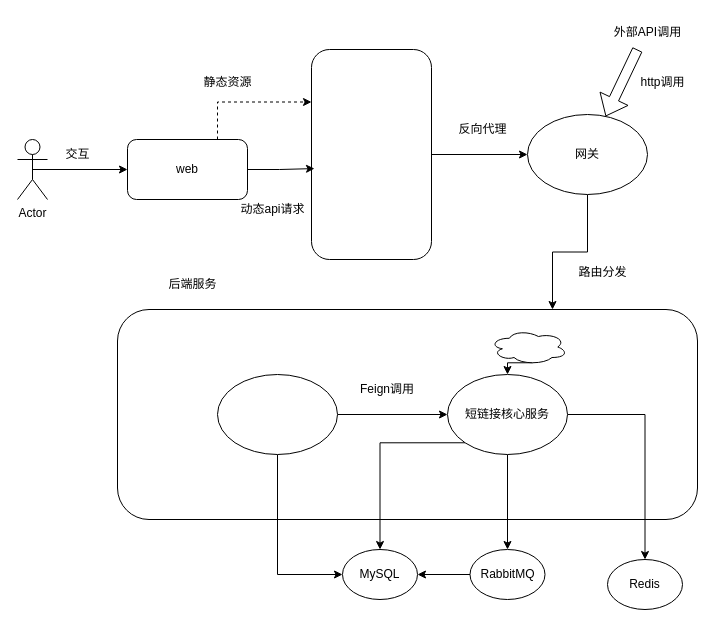
Image size: 715x627. Some labels were removed from this diagram. The box of each missing label's shape, as (x1, y1, x2, y2) in pixels:
nginx: (310, 48, 432, 260)
sentinel限流: (489, 328, 568, 364)
短链接管理服务: (216, 374, 338, 454)
